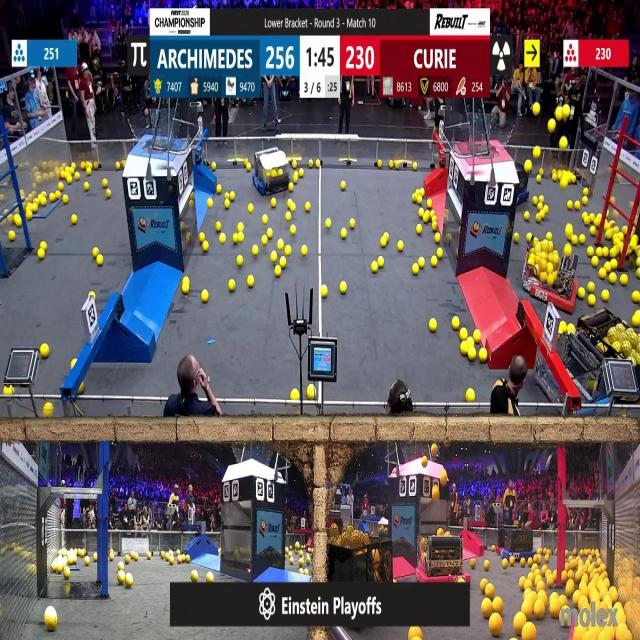ball_airborne: (431, 486, 439, 500), (556, 106, 564, 120), (549, 118, 557, 132), (563, 105, 570, 119), (560, 137, 568, 149), (532, 104, 540, 116), (442, 469, 448, 484), (533, 146, 540, 158), (525, 162, 532, 174), (431, 445, 437, 457), (422, 456, 428, 466)
ball_ground: (44, 610, 56, 632), (490, 616, 502, 638), (522, 624, 536, 640), (533, 602, 545, 619), (482, 599, 492, 618), (513, 615, 523, 632), (550, 601, 560, 618), (492, 598, 502, 612), (479, 349, 488, 363), (40, 344, 49, 358), (43, 405, 52, 419), (632, 313, 640, 328), (452, 317, 460, 330), (467, 348, 475, 361), (466, 389, 474, 401), (588, 293, 596, 305), (308, 386, 316, 398), (632, 290, 640, 302), (126, 574, 134, 586), (577, 287, 585, 299), (588, 282, 596, 294), (460, 343, 468, 355), (564, 244, 572, 256), (486, 586, 494, 598), (202, 289, 209, 302), (429, 319, 436, 332), (473, 332, 480, 345), (565, 223, 572, 236), (290, 388, 298, 399), (206, 571, 214, 582), (37, 249, 45, 260), (116, 572, 124, 583), (247, 276, 254, 288), (608, 273, 615, 285), (378, 256, 385, 268), (341, 282, 348, 294), (227, 280, 234, 292), (280, 256, 287, 268), (520, 576, 526, 589), (275, 267, 282, 278), (621, 275, 628, 286), (233, 234, 240, 245), (14, 216, 21, 227), (287, 201, 294, 212), (182, 282, 188, 294), (584, 213, 590, 225), (568, 324, 574, 336), (588, 246, 595, 256), (97, 255, 104, 265), (602, 290, 609, 300), (592, 256, 599, 266), (413, 266, 420, 276), (302, 246, 309, 256), (237, 255, 244, 265), (93, 247, 100, 257), (603, 247, 610, 257), (609, 247, 616, 257), (561, 179, 568, 189), (219, 234, 225, 245), (434, 234, 440, 245), (321, 286, 327, 297), (203, 242, 209, 253), (419, 257, 425, 268), (460, 328, 466, 339), (191, 570, 197, 581), (431, 256, 437, 267), (610, 258, 616, 269), (560, 321, 566, 332), (546, 575, 552, 586), (8, 233, 15, 242), (6, 386, 13, 395), (371, 264, 377, 274), (215, 221, 221, 231), (252, 246, 258, 256), (599, 270, 605, 280), (397, 242, 403, 252), (514, 234, 520, 244), (272, 252, 278, 262), (342, 228, 348, 238), (381, 238, 387, 248), (64, 568, 70, 578), (578, 235, 584, 245), (284, 246, 290, 256), (436, 248, 442, 258), (590, 225, 596, 235), (350, 218, 356, 228), (286, 212, 292, 222), (423, 213, 429, 223), (325, 218, 331, 228), (469, 559, 475, 569), (564, 616, 569, 628), (55, 191, 62, 199), (94, 163, 101, 171), (418, 187, 425, 195), (71, 215, 77, 224), (545, 233, 551, 242), (216, 184, 222, 193), (264, 215, 270, 224), (238, 222, 244, 231), (431, 222, 437, 231), (413, 163, 419, 172), (426, 200, 432, 209), (102, 179, 108, 188), (231, 191, 237, 200), (66, 175, 72, 184), (63, 194, 69, 203), (417, 197, 423, 206), (292, 174, 298, 183), (570, 175, 576, 184), (40, 198, 46, 207), (290, 224, 295, 234), (485, 560, 490, 570), (417, 224, 422, 234), (306, 202, 311, 212), (342, 183, 347, 193), (106, 188, 111, 198), (419, 208, 424, 218), (78, 384, 83, 394), (413, 192, 418, 202), (524, 212, 530, 220), (40, 242, 46, 250), (223, 201, 229, 209), (146, 553, 152, 561), (596, 248, 602, 256), (263, 237, 269, 245), (83, 558, 89, 566), (59, 182, 65, 190), (184, 556, 190, 564), (502, 560, 508, 568), (388, 162, 394, 170), (278, 238, 284, 246), (27, 212, 33, 220), (394, 162, 400, 170), (132, 554, 138, 562), (93, 554, 99, 562), (248, 204, 253, 213), (200, 234, 205, 243), (269, 230, 274, 239), (567, 202, 572, 211), (378, 161, 383, 170), (49, 192, 54, 201), (535, 198, 540, 207), (521, 559, 526, 568), (72, 359, 77, 368), (291, 163, 297, 170), (309, 162, 315, 169), (208, 200, 213, 208), (527, 234, 532, 242), (536, 214, 541, 222), (288, 182, 293, 190), (75, 173, 80, 181), (120, 562, 125, 570), (298, 169, 303, 177), (316, 162, 321, 170), (574, 202, 579, 210), (536, 175, 541, 183), (88, 168, 93, 176), (584, 198, 589, 206), (636, 257, 640, 267), (298, 559, 303, 567), (584, 187, 589, 195), (170, 557, 175, 565), (71, 164, 76, 172), (178, 556, 183, 564), (33, 205, 38, 213), (430, 210, 435, 218), (212, 163, 216, 172), (108, 556, 114, 562), (91, 290, 96, 297), (162, 553, 167, 560), (542, 206, 547, 213), (61, 172, 66, 179), (553, 175, 558, 182), (272, 200, 276, 208), (84, 182, 88, 190), (116, 163, 120, 171), (244, 162, 248, 170), (636, 271, 640, 279), (224, 191, 228, 199), (305, 568, 309, 576), (289, 558, 293, 566), (80, 163, 84, 170), (218, 550, 222, 557), (298, 568, 302, 574), (492, 544, 496, 550)
goal: (461, 117, 517, 158), (128, 115, 186, 151)
robot_blue: (599, 314, 640, 400), (252, 148, 292, 196), (505, 523, 536, 560)
robot_red: (523, 238, 580, 310), (416, 528, 465, 584)
